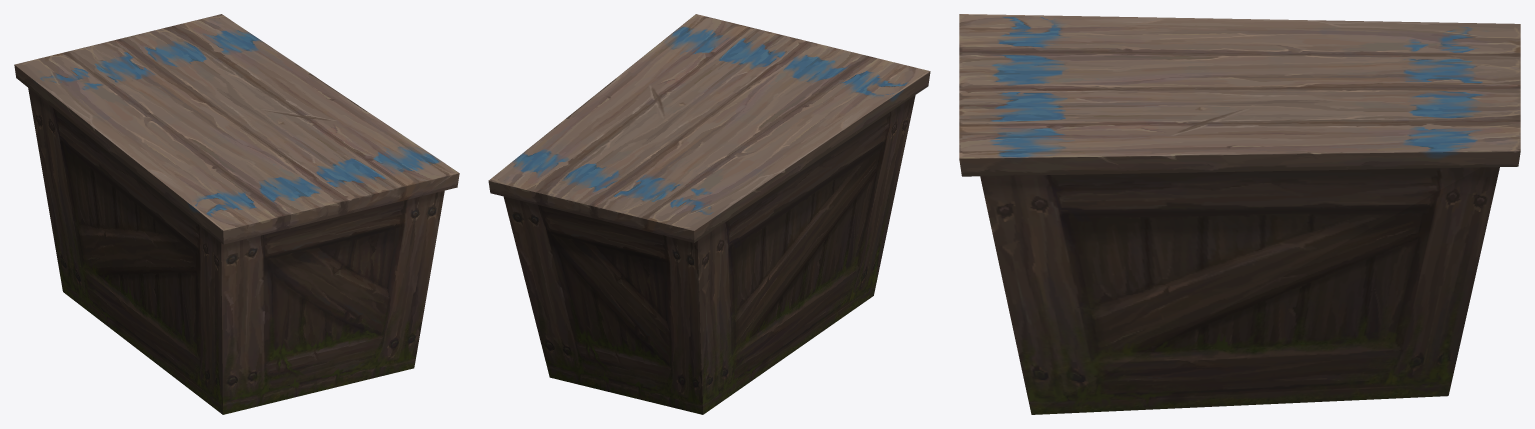
The model's file is fb_lyhg_zj_14_b.FBX.
3 views of the same model, side by side, from view 1: azimuth 30°, elevation 25°; view 2: azimuth 150°, elevation 25°; view 3: azimuth 270°, elevation 25° (orthographic). The views are drawn at different scales.
Visible parts, largest first — view 1: fb_lyhg_zj_14_b; view 2: fb_lyhg_zj_14_b; view 3: fb_lyhg_zj_14_b.
Part boxes in pixels (x1,y1,x2,y2): fb_lyhg_zj_14_b: (14,14,459,414); fb_lyhg_zj_14_b: (488,14,930,414); fb_lyhg_zj_14_b: (959,14,1520,414).
Size of the model in its own units: 99.03 by 84.97 by 162.
